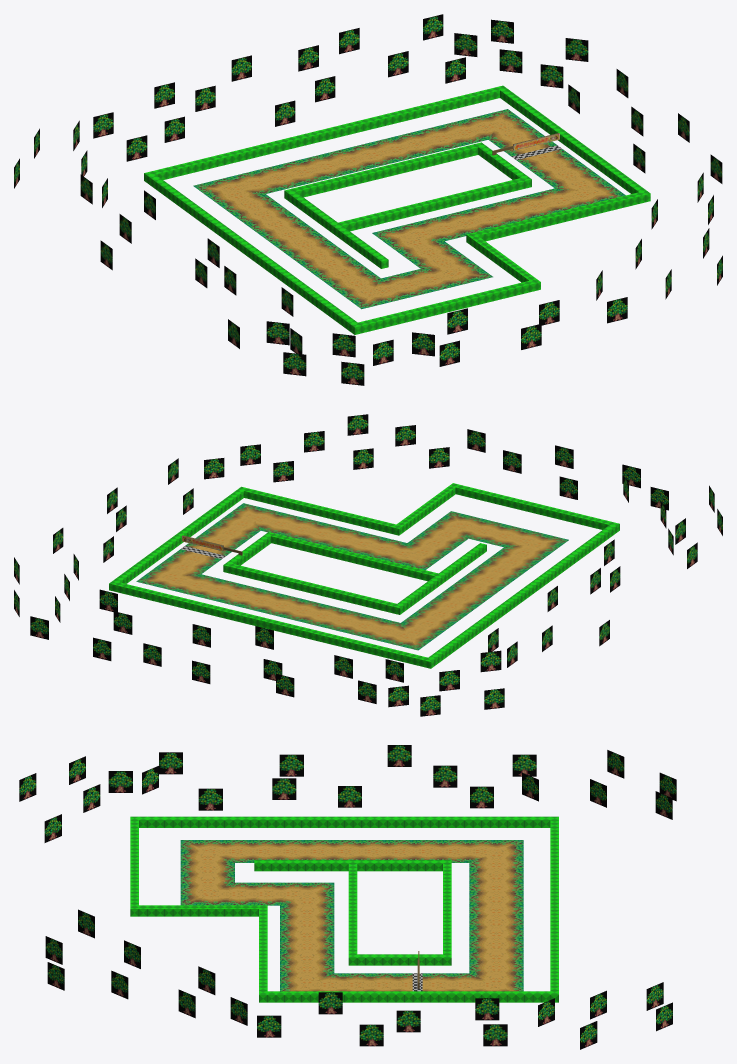
3 views of the same model, one above another, from view 1: azimuth 30°, elevation 25°; view 2: azimuth 150°, elevation 25°; view 3: azimuth 270°, elevation 25° (orthographic). The views are drawn at different scales.
Visible parts, largest first — view 1: course-SKP--Road.007, course-SKP--Wall.006, course-SKP--Tree; view 2: course-SKP--Road.007, course-SKP--Wall.006, course-SKP--Tree; view 3: course-SKP--Road.007, course-SKP--Tree, course-SKP--Wall.006.
Boxes of the visible parts, left/top/right/bottom form: course-SKP--Road.007: left=193, top=109, right=625, bottom=309; course-SKP--Wall.006: left=144, top=85, right=650, bottom=334; course-SKP--Tree: left=14, top=14, right=722, bottom=385; course-SKP--Road.007: left=136, top=503, right=568, bottom=650; course-SKP--Wall.006: left=109, top=483, right=619, bottom=668; course-SKP--Tree: left=14, top=414, right=722, bottom=716; course-SKP--Road.007: left=180, top=840, right=523, bottom=991; course-SKP--Tree: left=19, top=745, right=676, bottom=1049; course-SKP--Wall.006: left=130, top=816, right=558, bottom=1002.
Size of what is drawn, in the model's own units: 44196 by 2401 by 46797.
6 materials, 6 textured.
